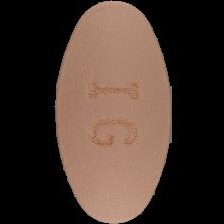54868-4558: (0, 0, 224, 224)
